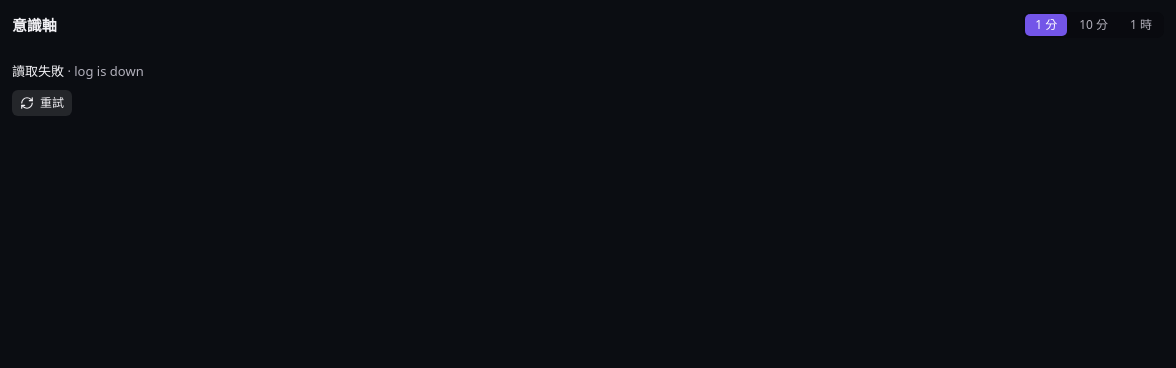
Test case: 意識軸 › shows a failure with a retry
expect the message shows "log is down": met, box [74,62,144,80]
What coordinates should you click on to do the following:
click the button "重試"
I would click on:
 (42, 102)
Its box is [12,90,72,116].
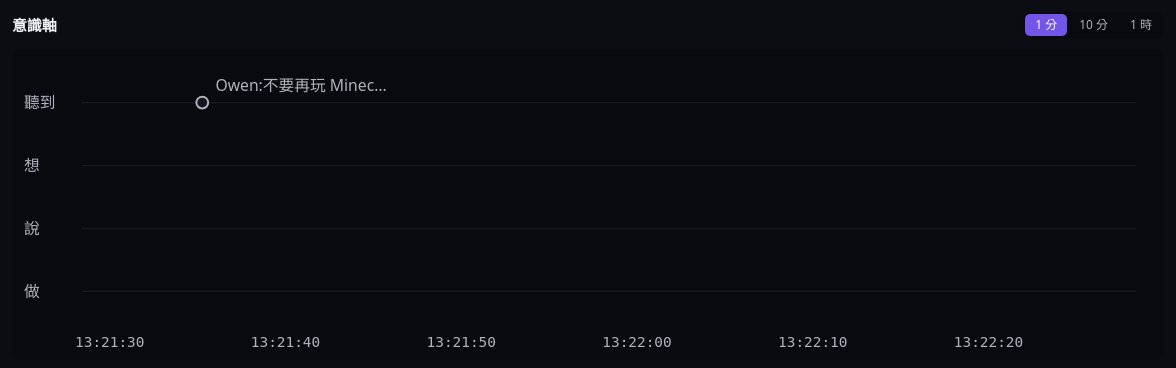
expect the icon named "聽到、想、說、做的時間線" is shown: met
